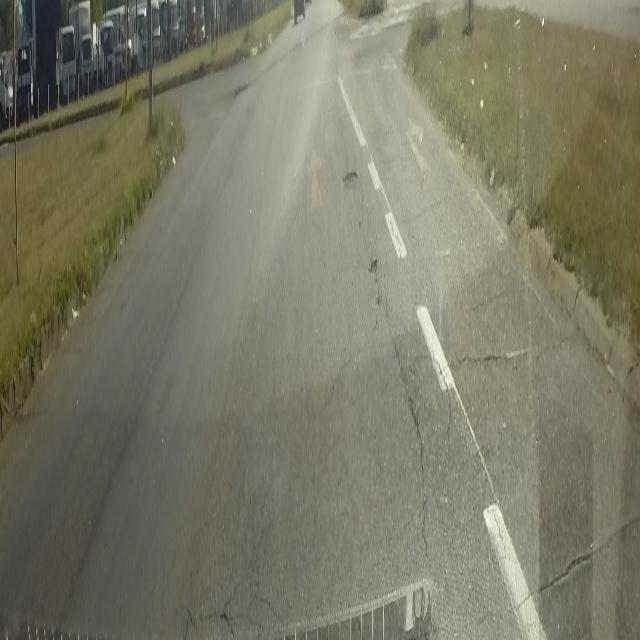pothole: (365, 251, 384, 287), (338, 168, 361, 189)
